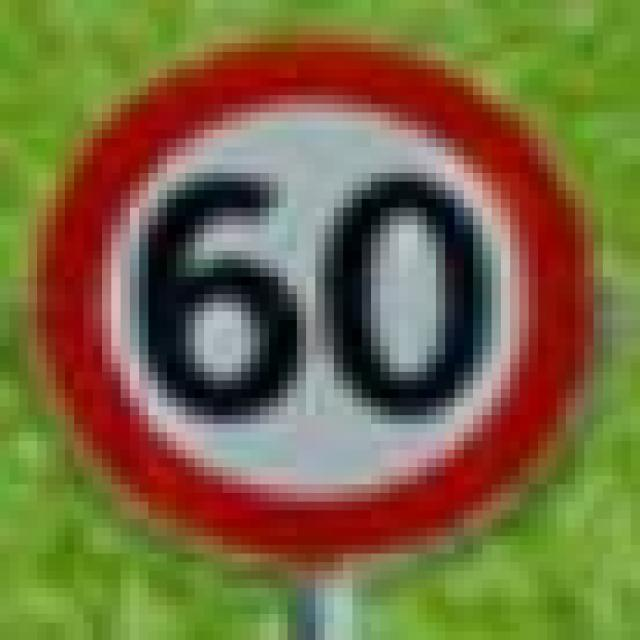speed_limit_60: (28, 26, 575, 553)
